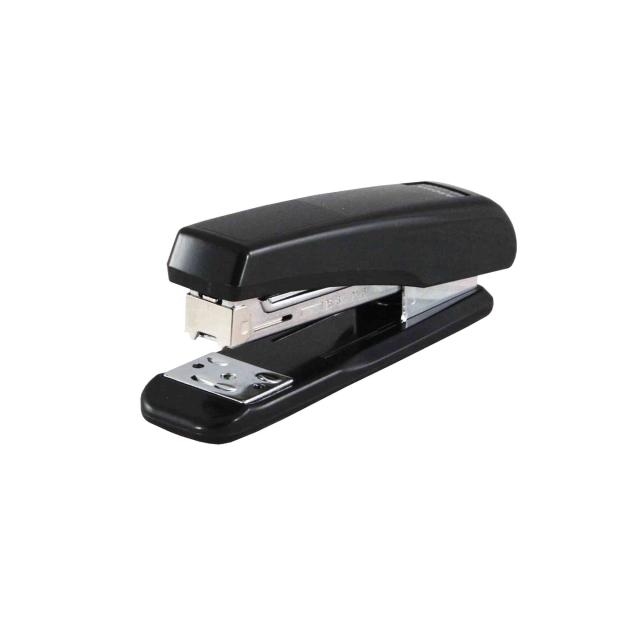Stapler: (112, 154, 524, 447)
